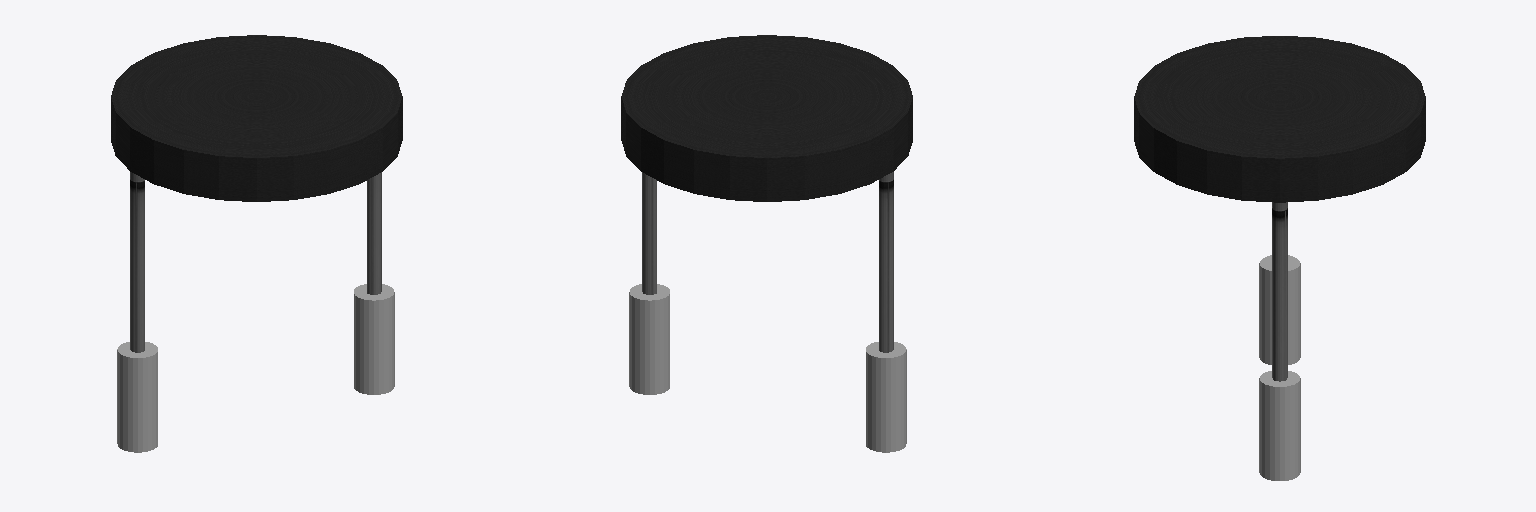
3 renders of one model, left to right at view 1: azimuth 30°, elevation 25°; view 2: azimuth 150°, elevation 25°; view 3: azimuth 270°, elevation 25°, orthographic.
Parts seen in each view (by area): view 1: Cylinder2, Cylinder4, Cylinder6, Cylinder5, Cylinder3; view 2: Cylinder2, Cylinder4, Cylinder6, Cylinder5, Cylinder3; view 3: Cylinder2, Cylinder4, Cylinder3, Cylinder6.
Part boxes in pixels (x1,y1,x2,y2): Cylinder2: (111, 35, 402, 201); Cylinder4: (354, 284, 394, 394); Cylinder6: (117, 342, 157, 452); Cylinder5: (130, 172, 144, 352); Cylinder3: (367, 172, 381, 294); Cylinder2: (621, 35, 912, 201); Cylinder4: (629, 284, 669, 394); Cylinder6: (866, 342, 906, 452); Cylinder5: (879, 172, 893, 352); Cylinder3: (642, 172, 656, 294); Cylinder2: (1134, 36, 1425, 202); Cylinder4: (1259, 371, 1300, 480); Cylinder3: (1272, 202, 1287, 381); Cylinder6: (1259, 255, 1300, 364).
Size of the model in its own units: 1.61 by 1.81 by 1.5.
3 materials, 2 textured.